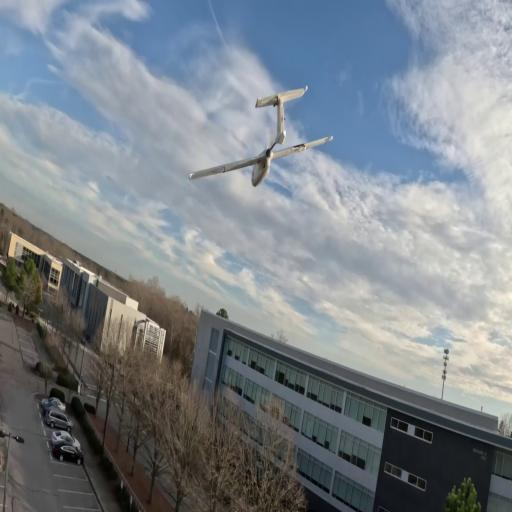uav: (186, 80, 336, 200)
